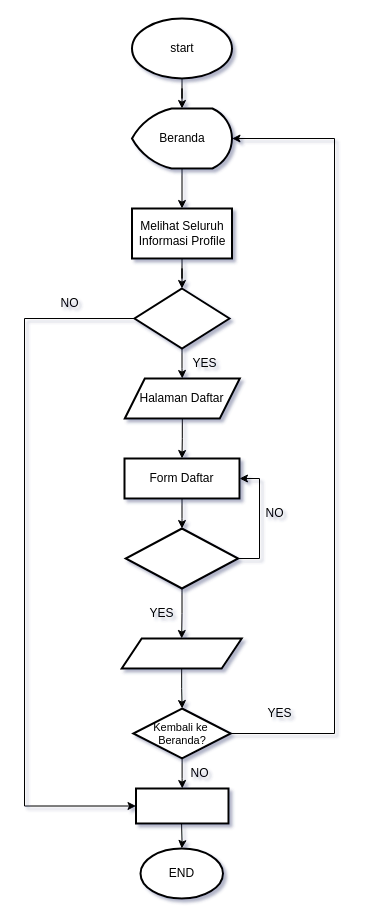
This 366x922 diagram has some shape labels left out. The centre of each missing label's shape, as x and y in pixels:
"Form Terisi dengan benar?" belongs at pixel 181 558.
"Keluar" belongs at pixel 181 805.
"Pendaftaran Berhasil" belongs at pixel 181 653.
"Tertarik Daftar?" belongs at pixel 181 318.
